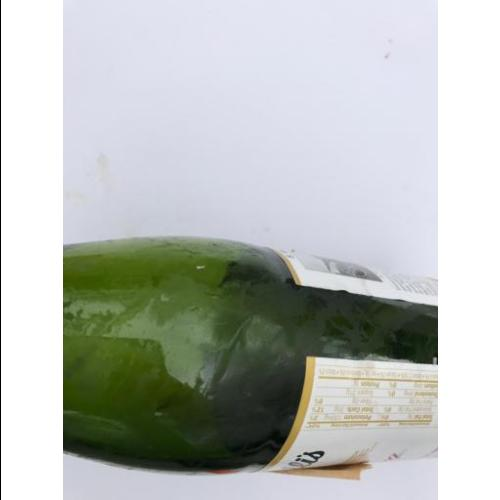glass: (61, 236, 441, 467)
